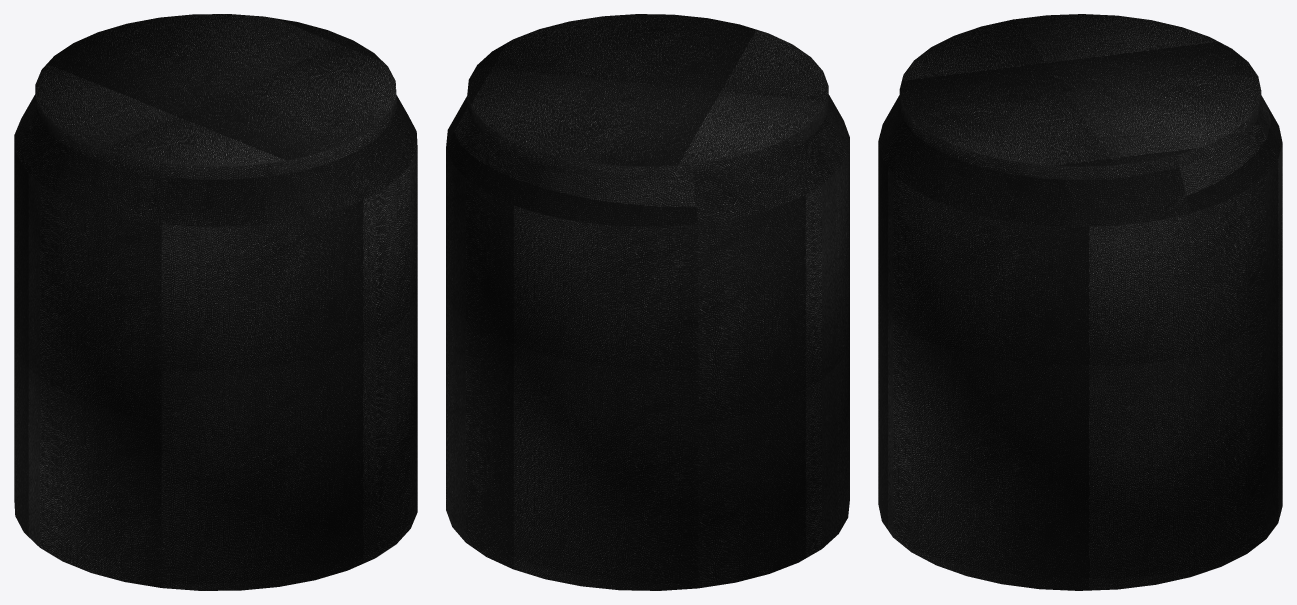
Rendered from Tinaco.fbx.
3 views of the same model, side by side, from view 1: azimuth 30°, elevation 25°; view 2: azimuth 150°, elevation 25°; view 3: azimuth 270°, elevation 25° (orthographic).
Visible parts, largest first — view 1: Tinaco; view 2: Tinaco; view 3: Tinaco.
Boxes of the visible parts, x1=… form: Tinaco: x1=14, y1=14, x2=417, y2=590; Tinaco: x1=446, y1=14, x2=849, y2=590; Tinaco: x1=878, y1=14, x2=1282, y2=590.
Size of the model in its own units: 150 by 170 by 150.
1 material, 1 textured.
